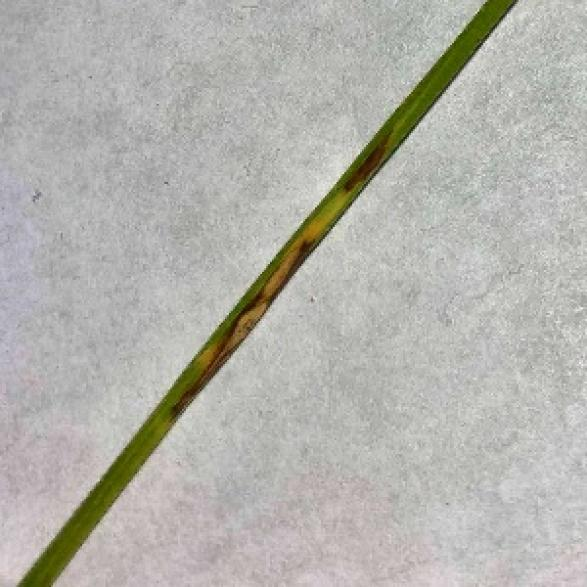Leaf_smut: (139, 118, 395, 427)
